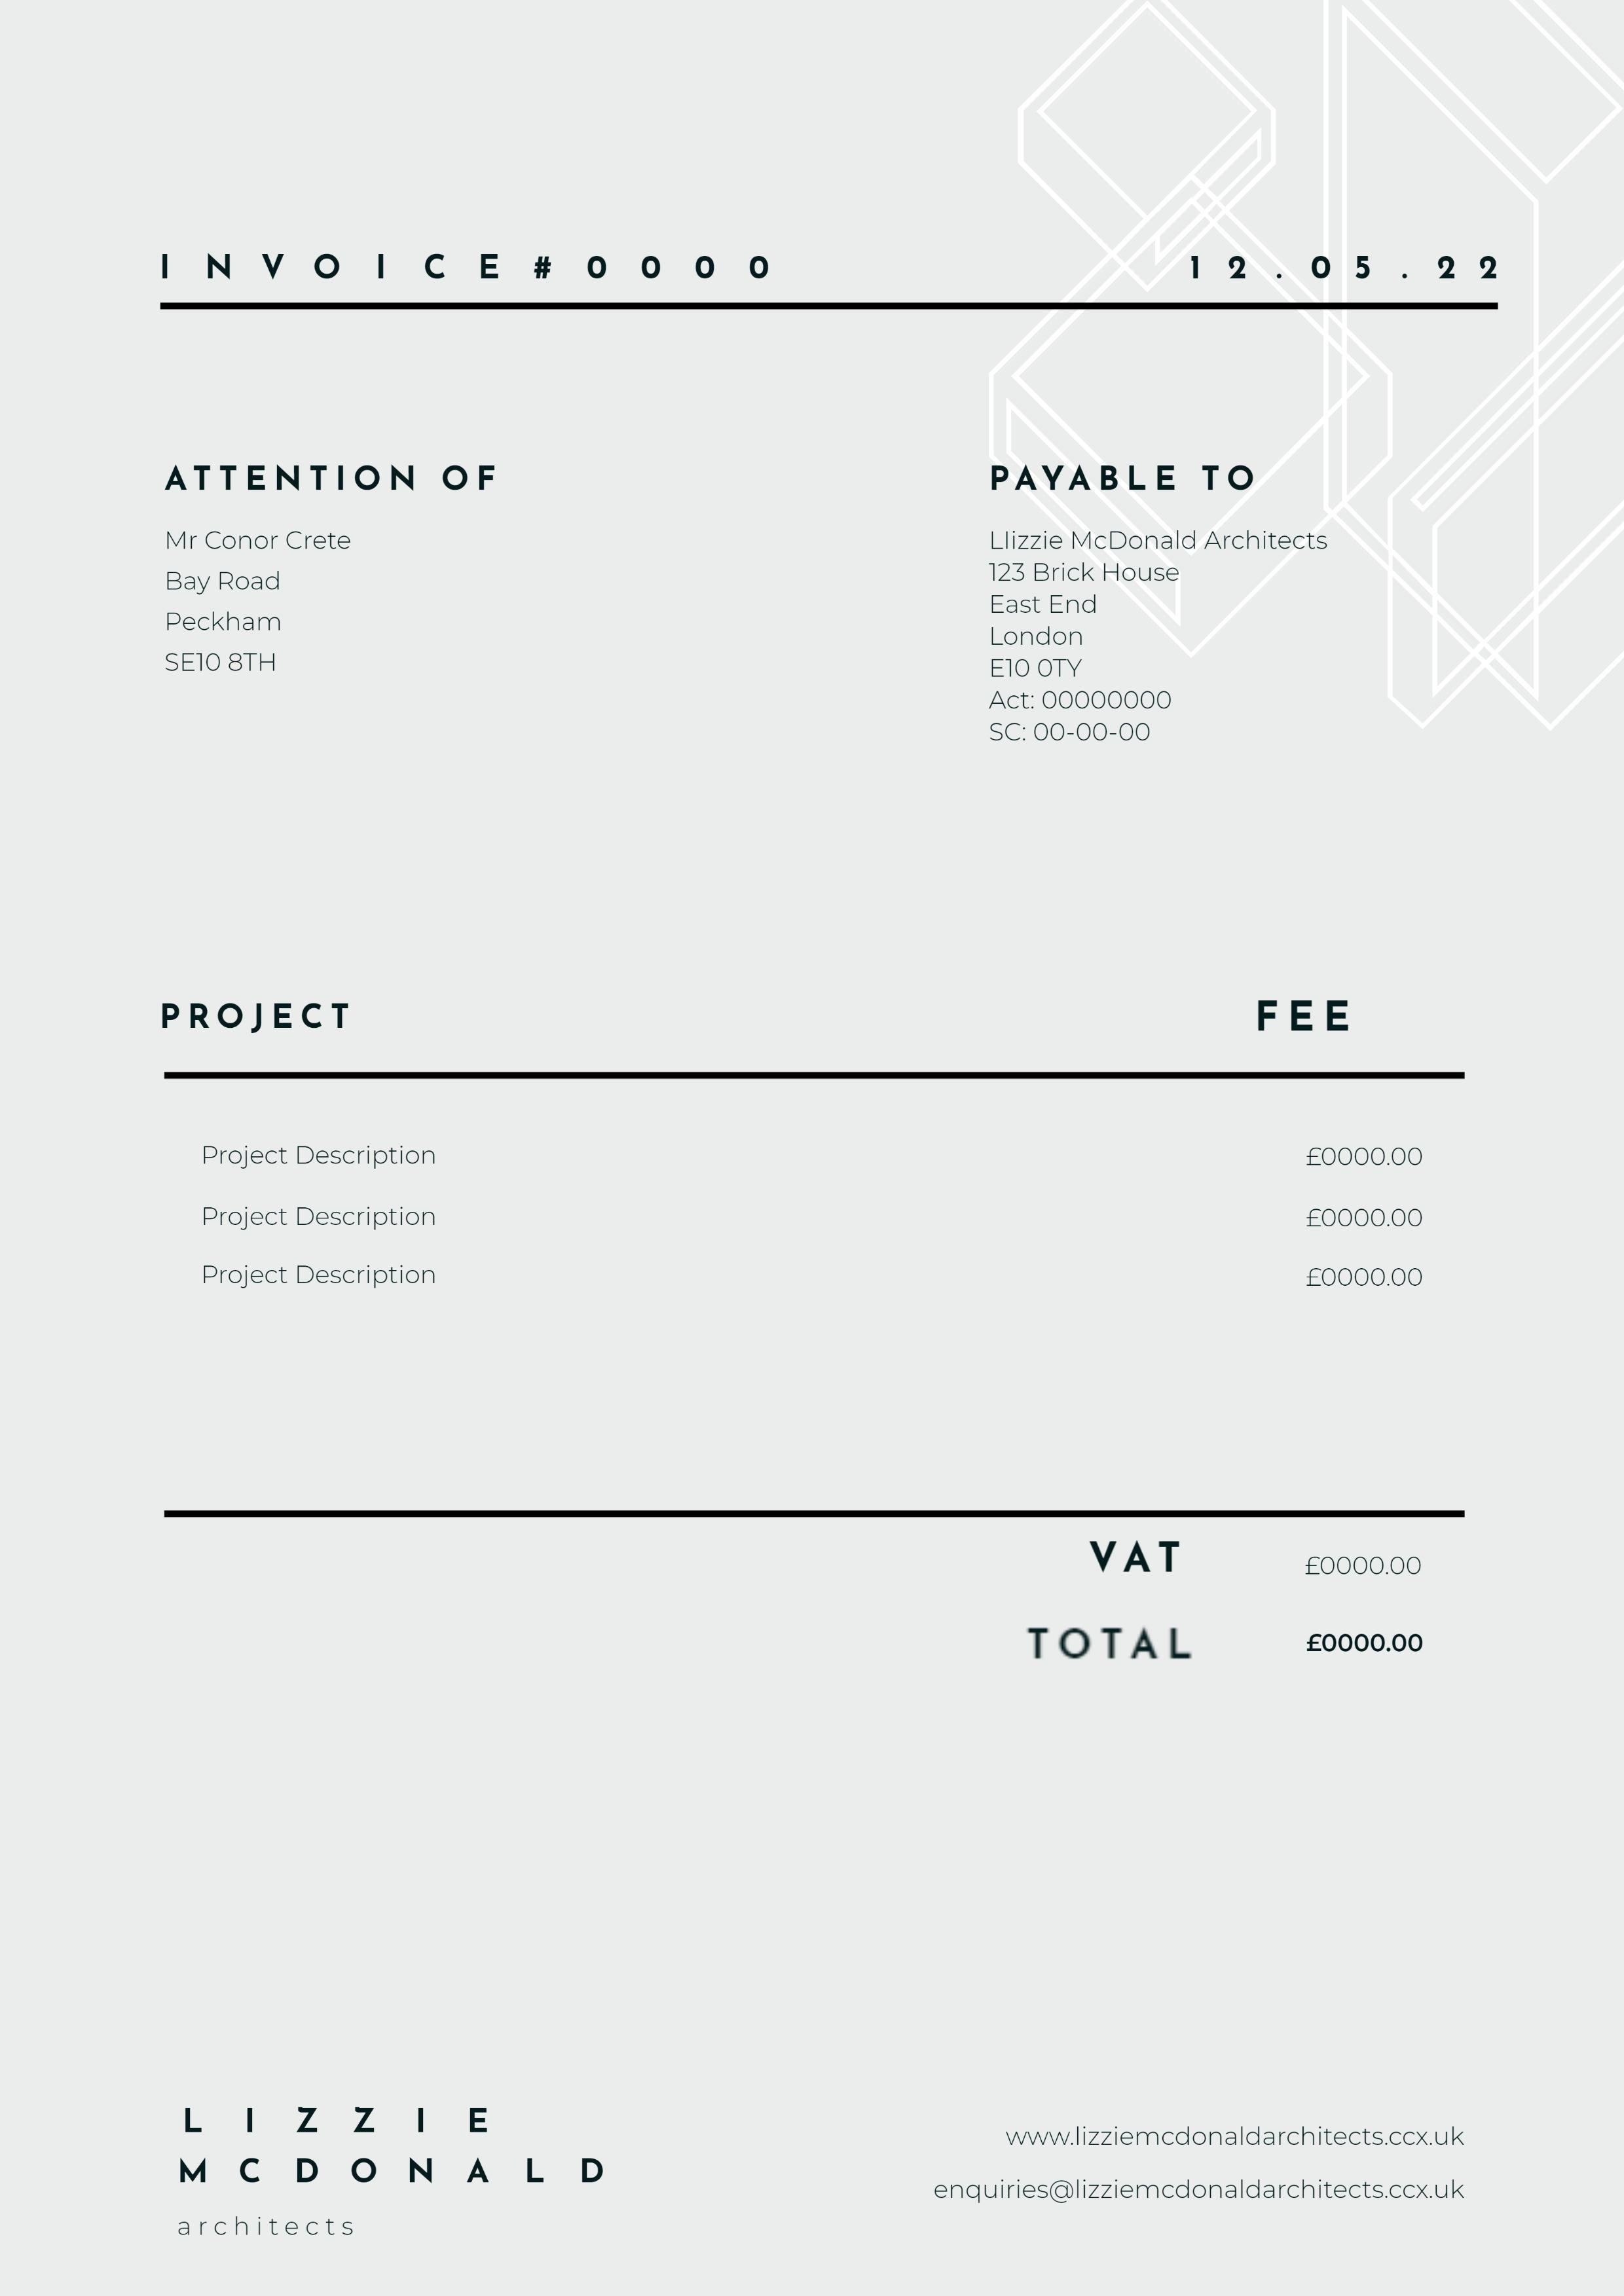ROI: (160, 989, 1431, 1314), (979, 453, 1357, 757), (148, 2061, 650, 2263), (162, 450, 540, 683), (151, 237, 1524, 290), (997, 1518, 1452, 1676)
